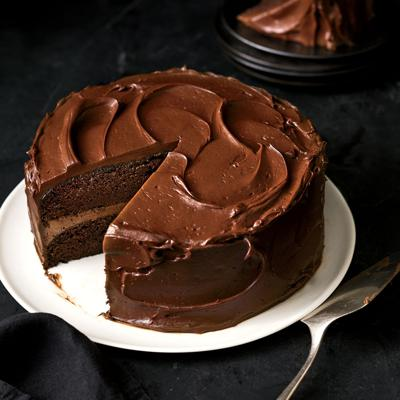cake: (25, 63, 329, 334)
